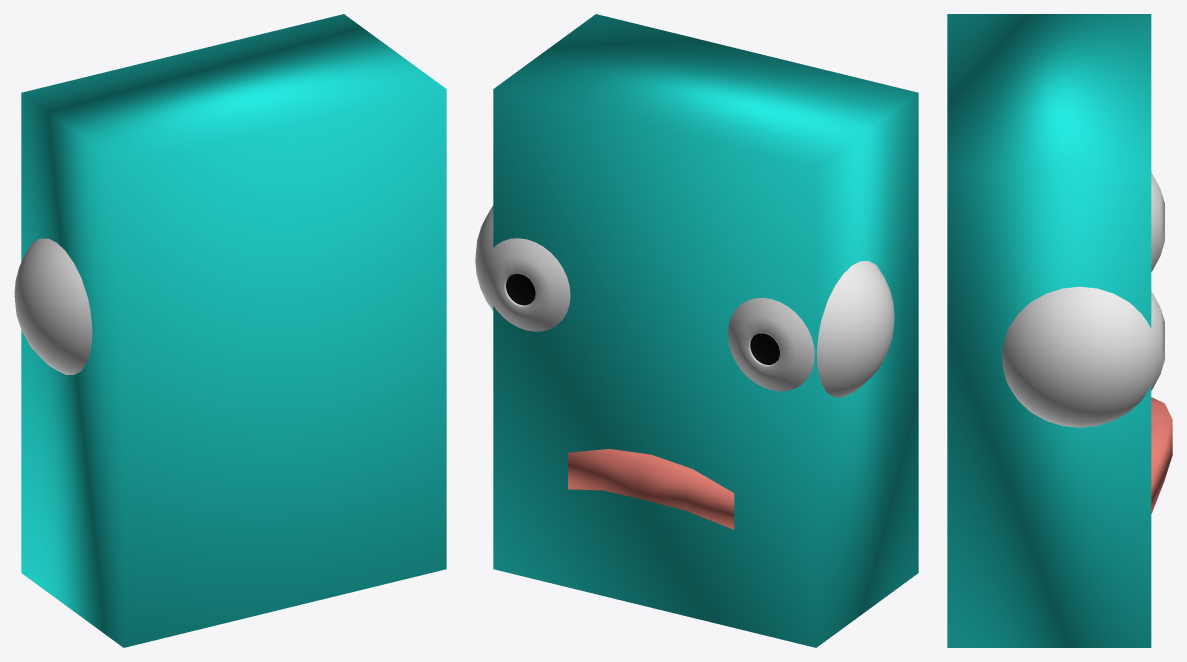
The model's file is fish.glb.
3 renders of one model, left to right at view 1: azimuth 30°, elevation 25°; view 2: azimuth 150°, elevation 25°; view 3: azimuth 270°, elevation 25°, orthographic.
Visible parts, largest first — view 1: Cube, Sphere.001; view 2: Cube, Sphere.001, Sphere, Cube.001; view 3: Cube, Sphere, Cube.001, Sphere.001.
Boxes of the visible parts, <box> form: Cube: <box>21,14,446,647</box>; Sphere.001: <box>14,238,92,374</box>; Cube: <box>493,14,918,647</box>; Sphere.001: <box>727,261,894,397</box>; Sphere: <box>475,206,570,331</box>; Cube.001: <box>568,449,734,529</box>; Cube: <box>947,14,1151,647</box>; Sphere: <box>1002,286,1164,427</box>; Cube.001: <box>1151,397,1172,513</box>; Sphere.001: <box>1151,173,1164,271</box>.
Size of the model in its own units: 2.46 by 2.84 by 1.21.
